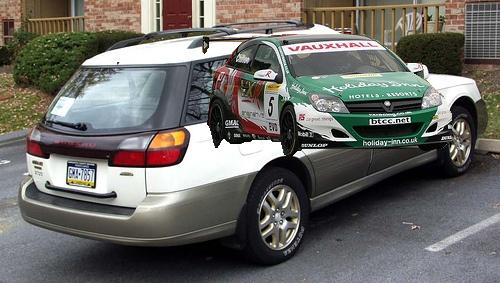tampered: (203, 35, 452, 157)
